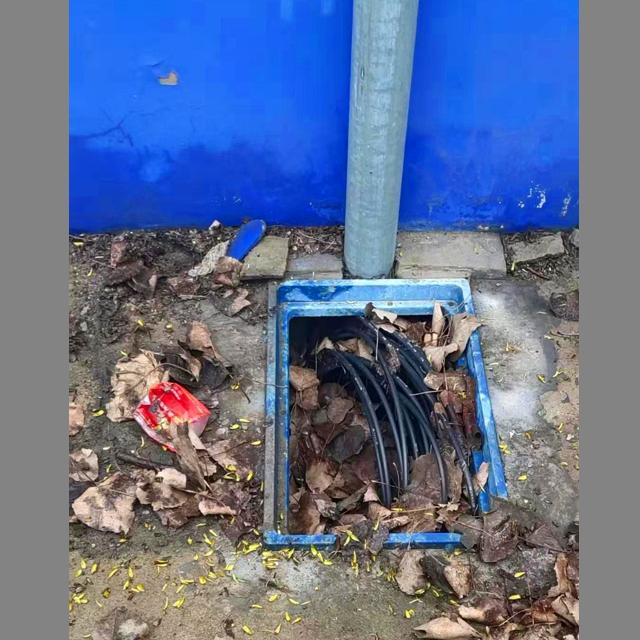lose: (250, 267, 509, 553)
